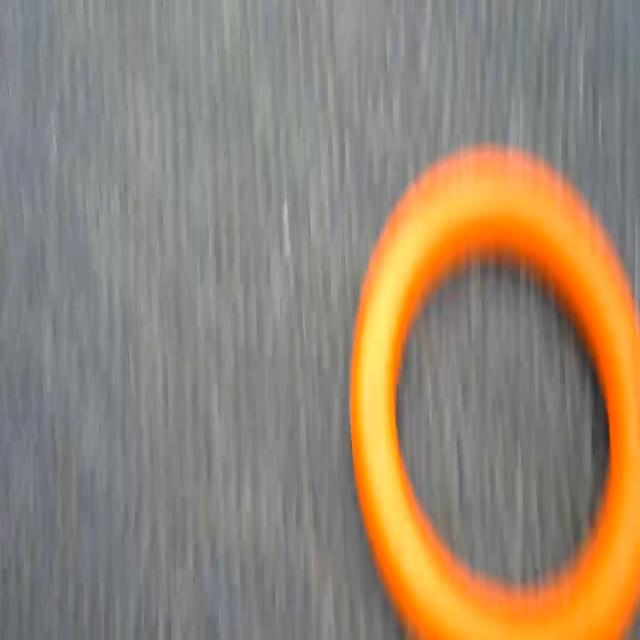note: (340, 139, 639, 640)
